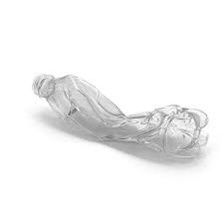bottle: (28, 67, 215, 169)
